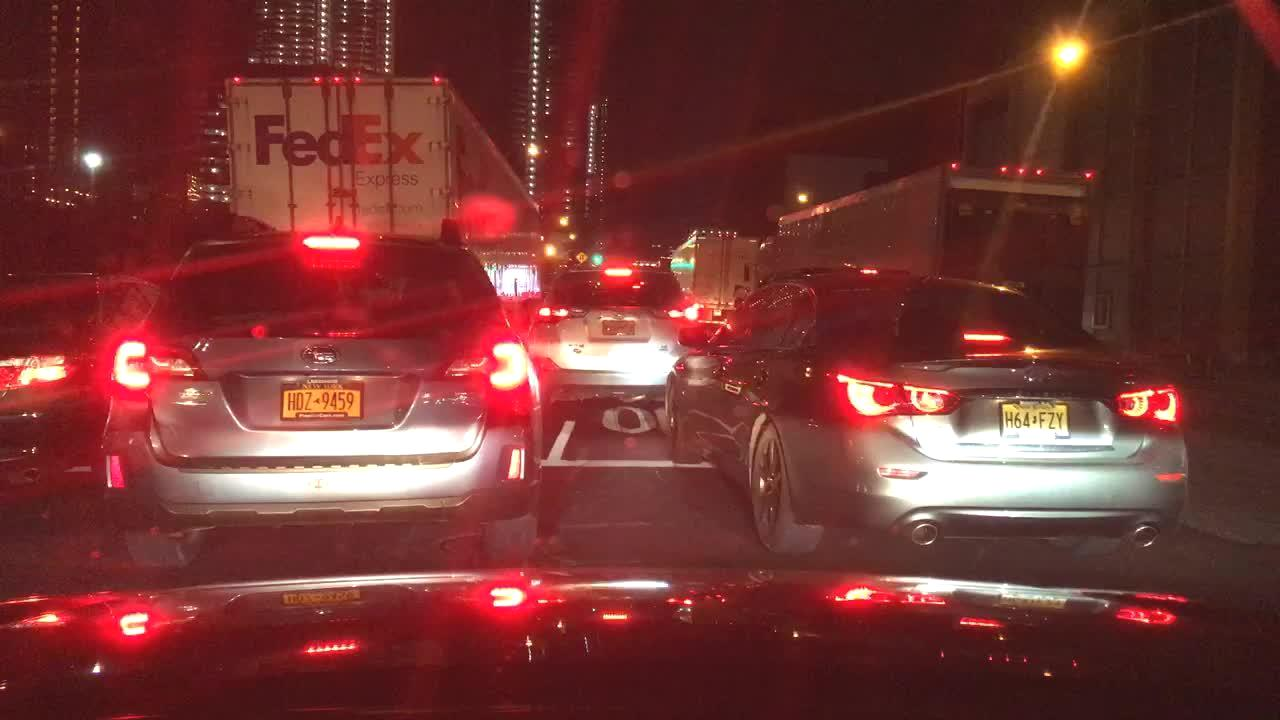subaru: (298, 343, 348, 378)
